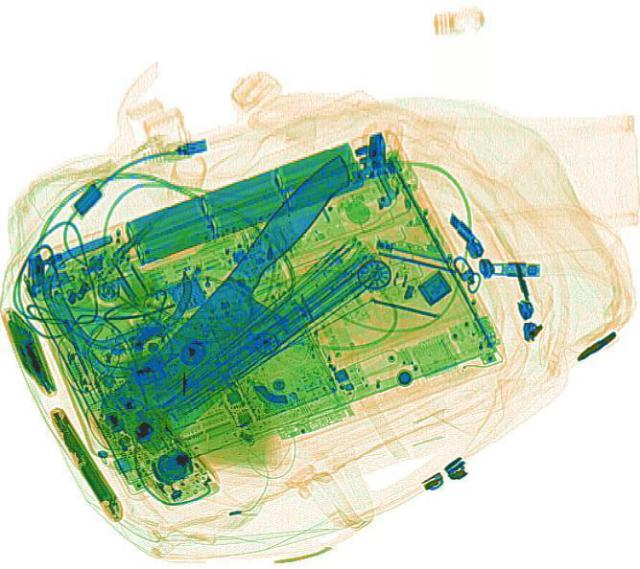Knife: (83, 146, 411, 463)
